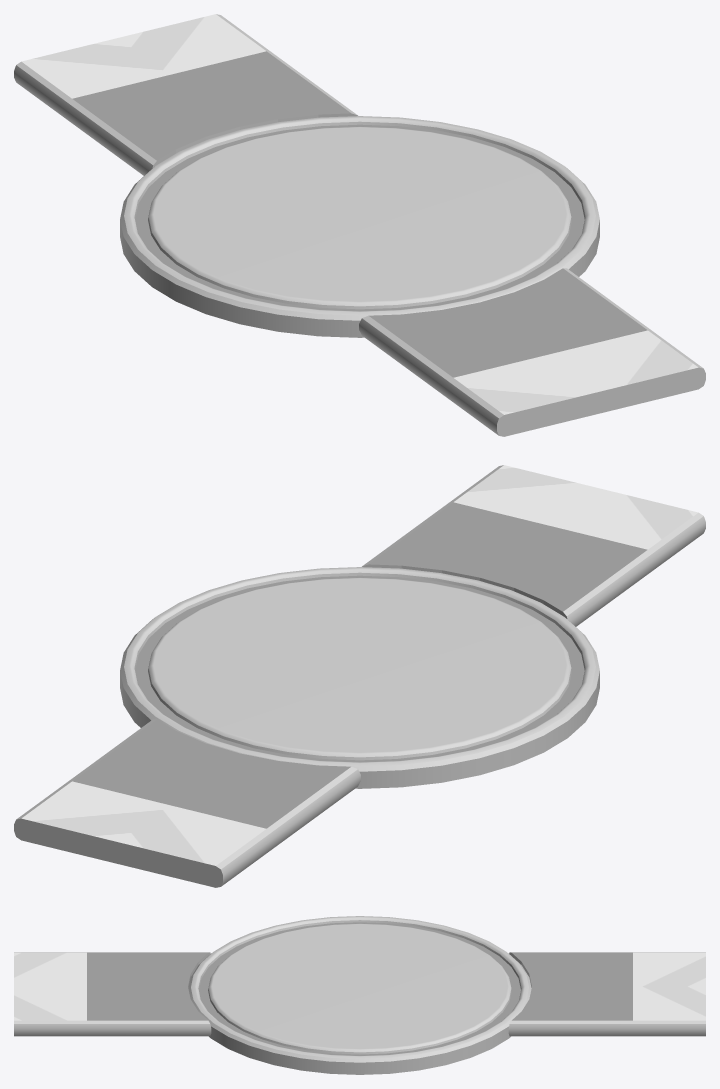
The model's file is floor_platform_rotating.fbx.
The picture shows the model from 3 angles, top to bottom: view 1: azimuth 30°, elevation 25°; view 2: azimuth 150°, elevation 25°; view 3: azimuth 270°, elevation 25°; orthographic projection. The views are drawn at different scales.
Parts seen in each view (by area): view 1: platform, floor; view 2: platform, floor; view 3: platform, floor.
Boxes of the visible parts, left/top/right/bottom form: platform: left=120, top=116, right=599, bottom=337; floor: left=14, top=14, right=705, bottom=436; platform: left=120, top=567, right=599, bottom=788; floor: left=14, top=465, right=705, bottom=887; platform: left=188, top=916, right=531, bottom=1074; floor: left=14, top=952, right=705, bottom=1036.
Bounding box in the file's own units: 994 × 50.31 × 2000.
Materials: 3 (1 with a texture image).
